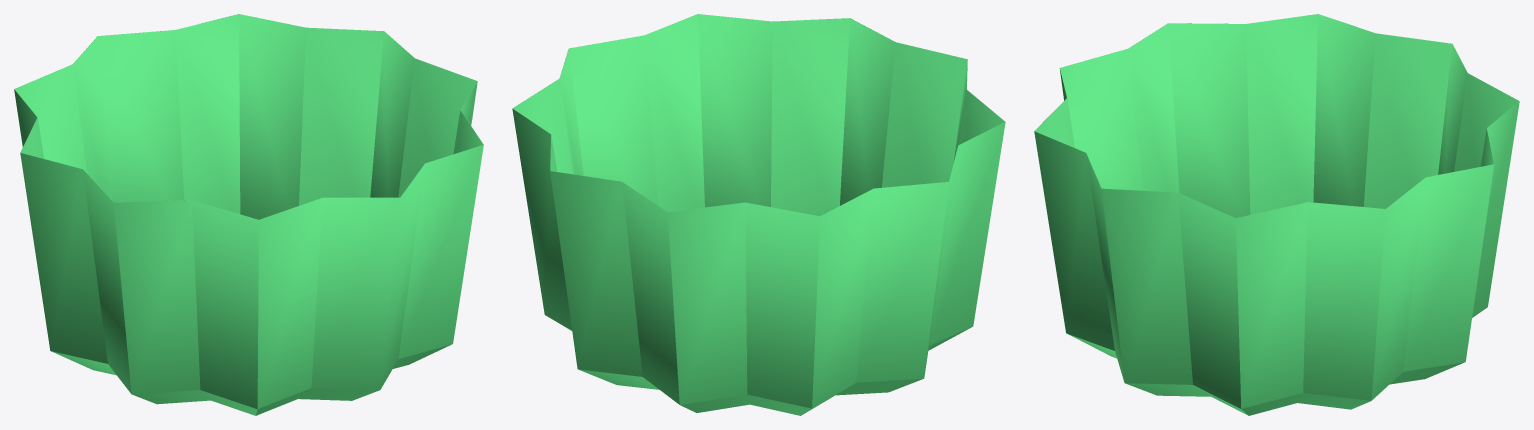
File: korpica.fbx
The picture shows the model from 3 angles, left to right: view 1: azimuth 30°, elevation 25°; view 2: azimuth 150°, elevation 25°; view 3: azimuth 270°, elevation 25°; orthographic projection.
Visible parts, largest first — view 1: PW_cupcake_cherry.002; view 2: PW_cupcake_cherry.002; view 3: PW_cupcake_cherry.002.
Boxes of the visible parts, <box> form: PW_cupcake_cherry.002: <box>14,14,483,415</box>; PW_cupcake_cherry.002: <box>512,14,1005,415</box>; PW_cupcake_cherry.002: <box>1034,14,1519,415</box>.
Bounding box in the file's own units: 15.84 × 8.43 × 15.9.
